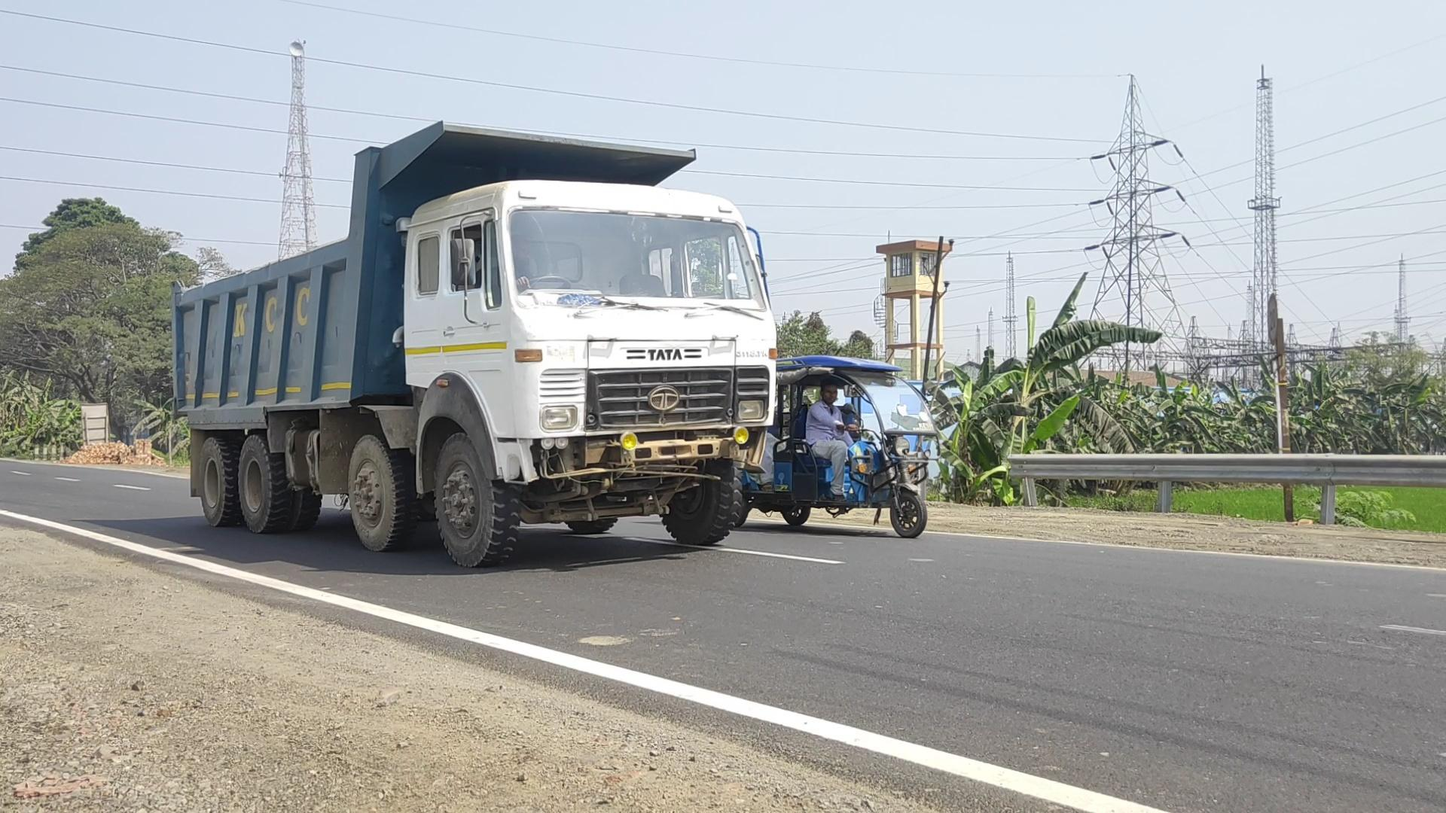Auto: (728, 354, 941, 539)
truck: (171, 120, 777, 569)
